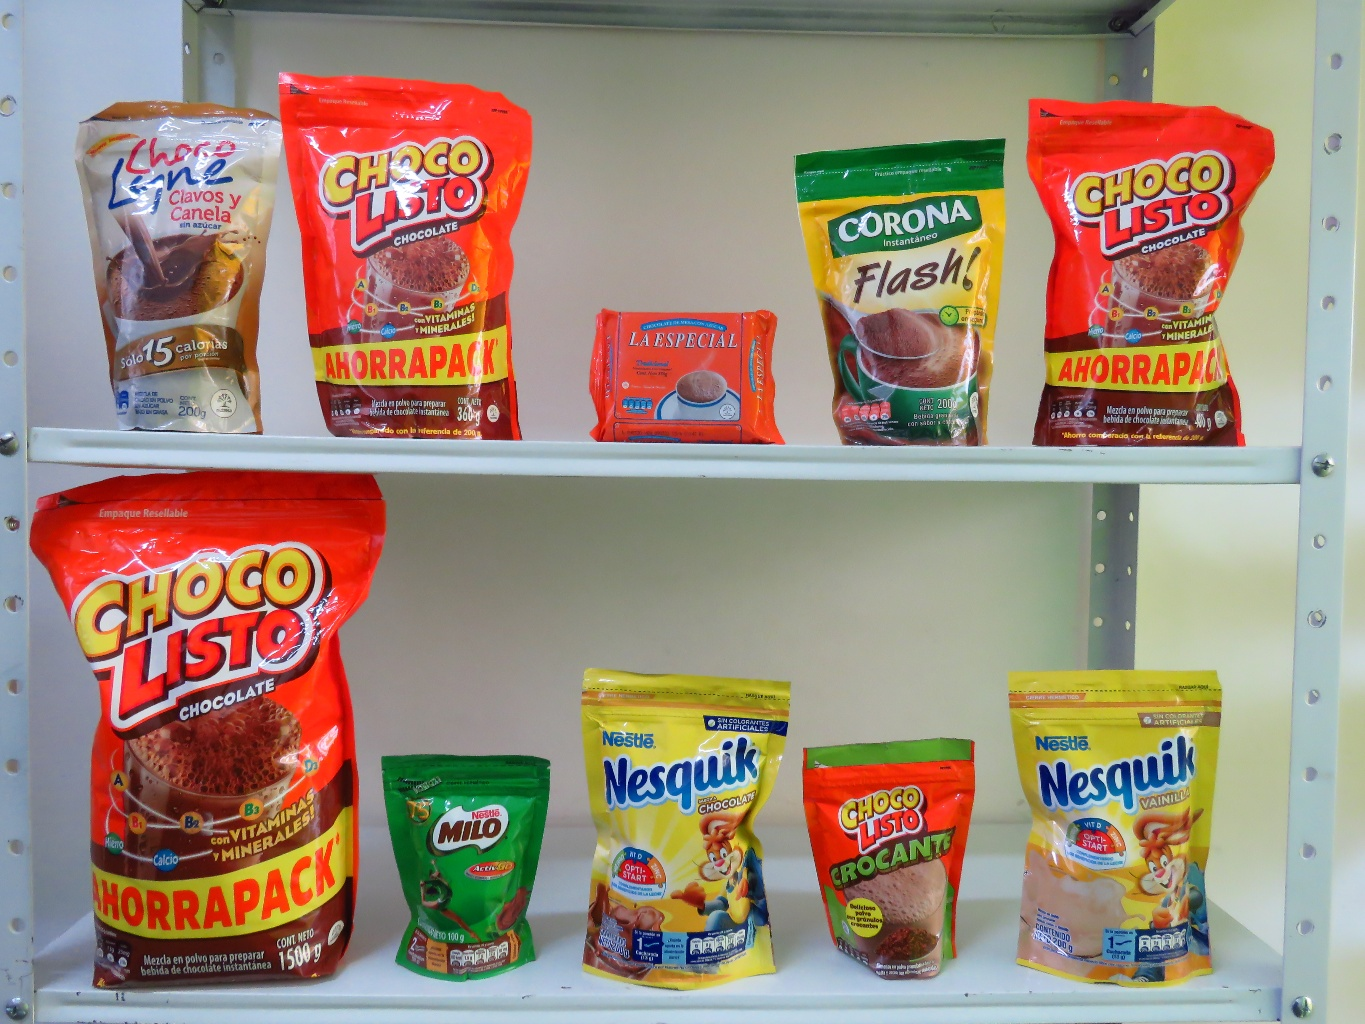COL0170102DYP10000: (791, 712, 995, 994)
COL0170103DYP1,500: (8, 449, 397, 1002)
COL0170103DYP36000: (253, 52, 563, 439)
COL0170103DYP40000: (1010, 79, 1288, 456)
COL0170203DYP10000: (366, 746, 551, 984)
COL0170303DYP20000: (551, 641, 788, 999)
COL0170306DYP20000: (990, 653, 1248, 1002)
